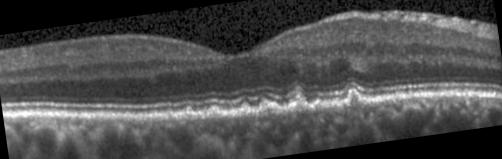retinal_drusen: (348, 89, 365, 106), (290, 101, 312, 112), (235, 104, 252, 117), (180, 109, 198, 120), (259, 102, 277, 112), (206, 108, 223, 118), (167, 111, 175, 120), (314, 102, 323, 109)
